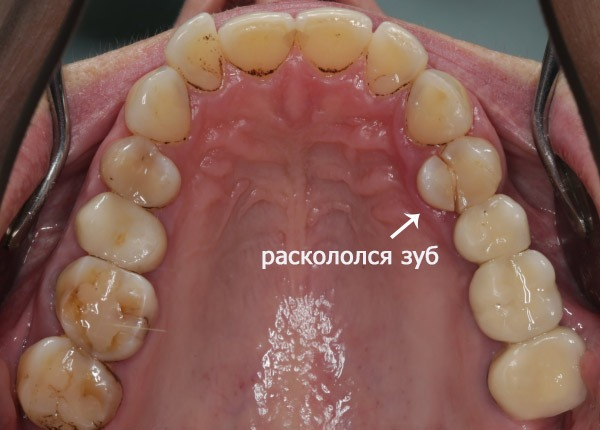UL1BC_decay: (420, 140, 499, 211)
UL1M_healthy: (468, 255, 563, 337)
UL2BC_healthy: (452, 199, 531, 260)
UL2M_healthy: (493, 336, 587, 417)
ULCI_decay: (297, 7, 370, 73)
ULC_healthy: (410, 71, 472, 141)
ULLI_decay: (368, 28, 423, 93)
UR1BC_healthy: (104, 138, 183, 206)
UR1M_decay: (55, 257, 160, 361)
UR2BC_healthy: (75, 202, 172, 272)
UR2M_decay: (17, 339, 124, 430)
URCI_decay: (221, 13, 295, 75)
URC_decay: (127, 73, 194, 140)
URLI_decay: (166, 15, 228, 91)
